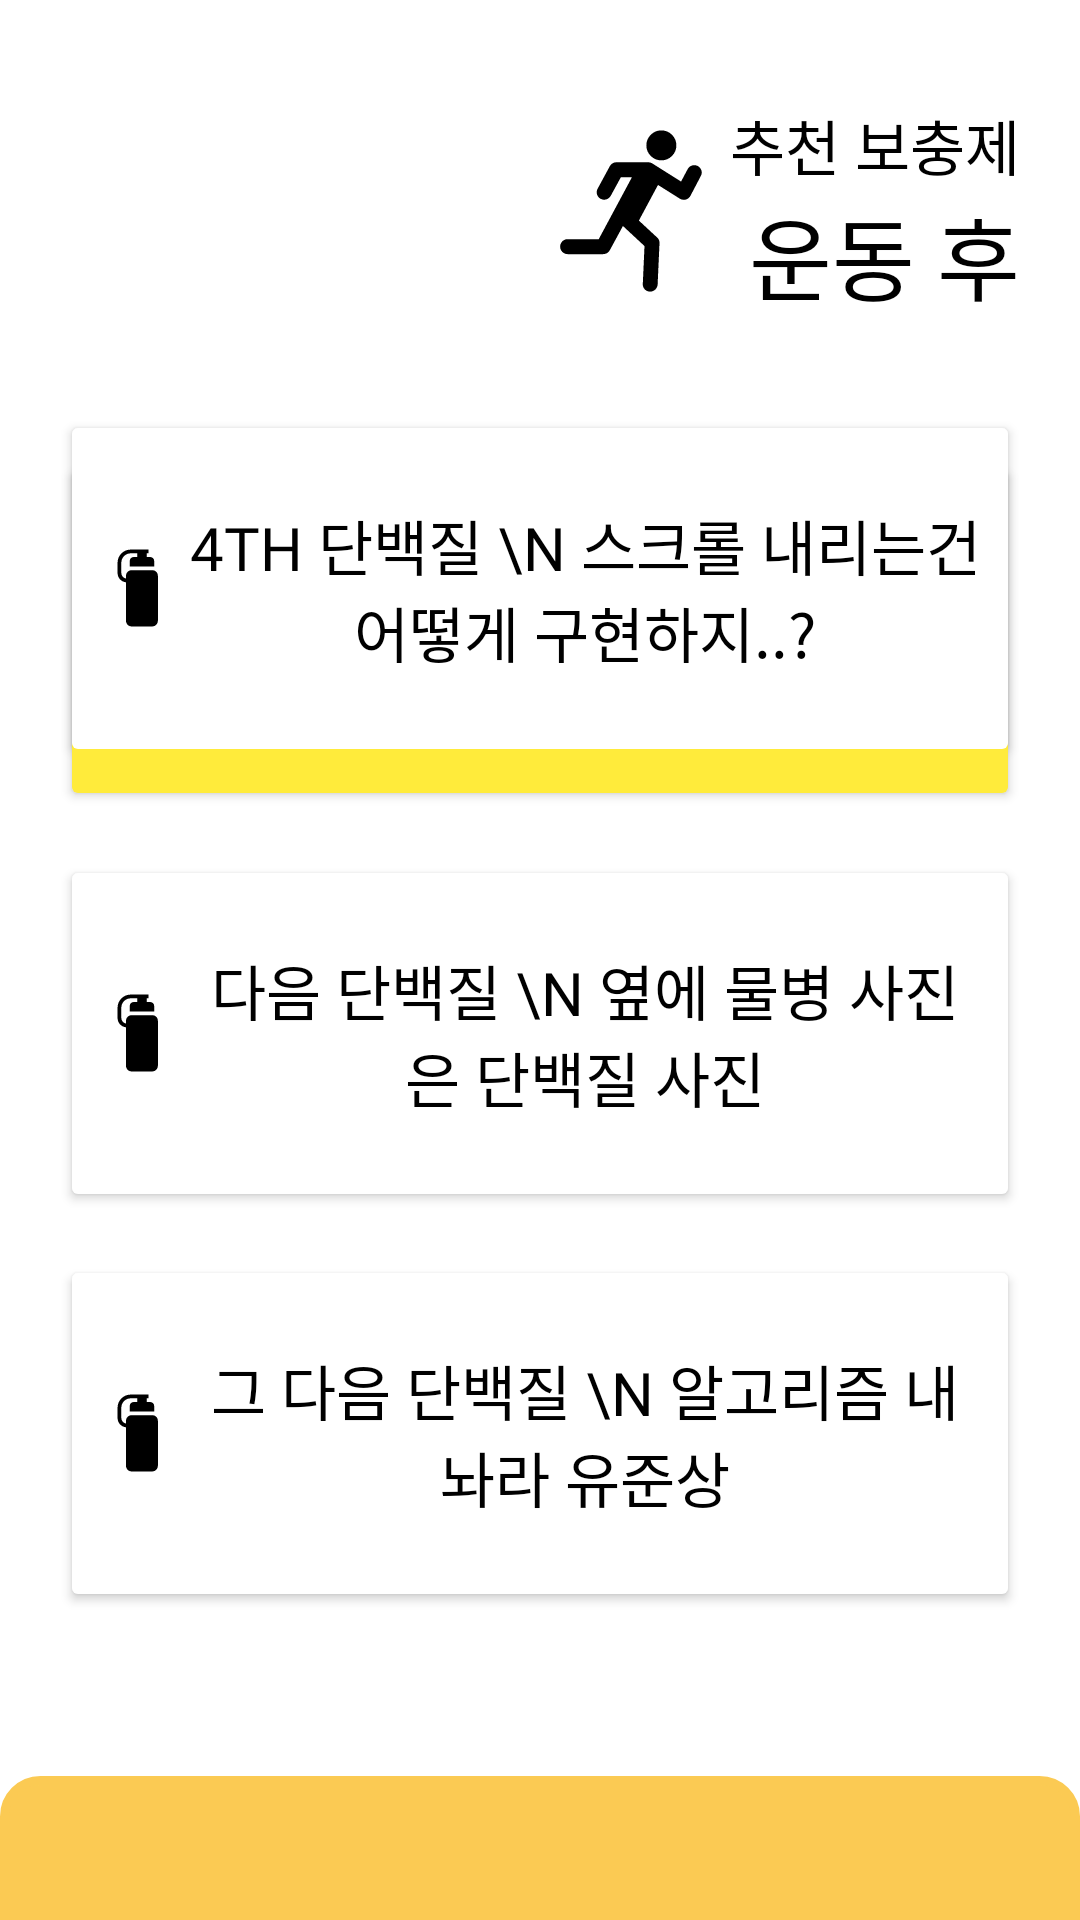

Screen size 1080w x 1920h. Icon name, then its box in pixels as bbox(x1, y1, x2, y2):
running: bbox(560, 130, 702, 292)
